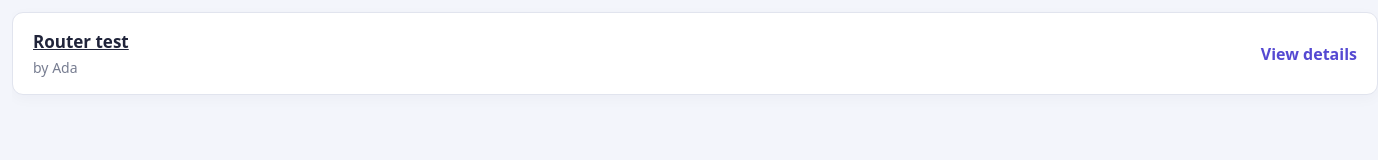
it: Blog › opens the details route when its link is selected
Click the link "View details" at (1309, 54), box [1261,42,1357,64]
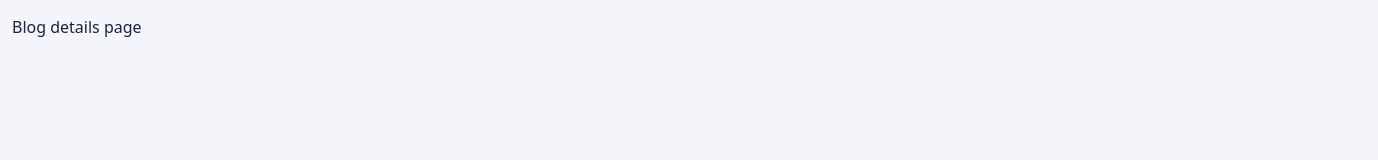
Check: the text "Blog details page" is shown, box [12,16,142,38]
